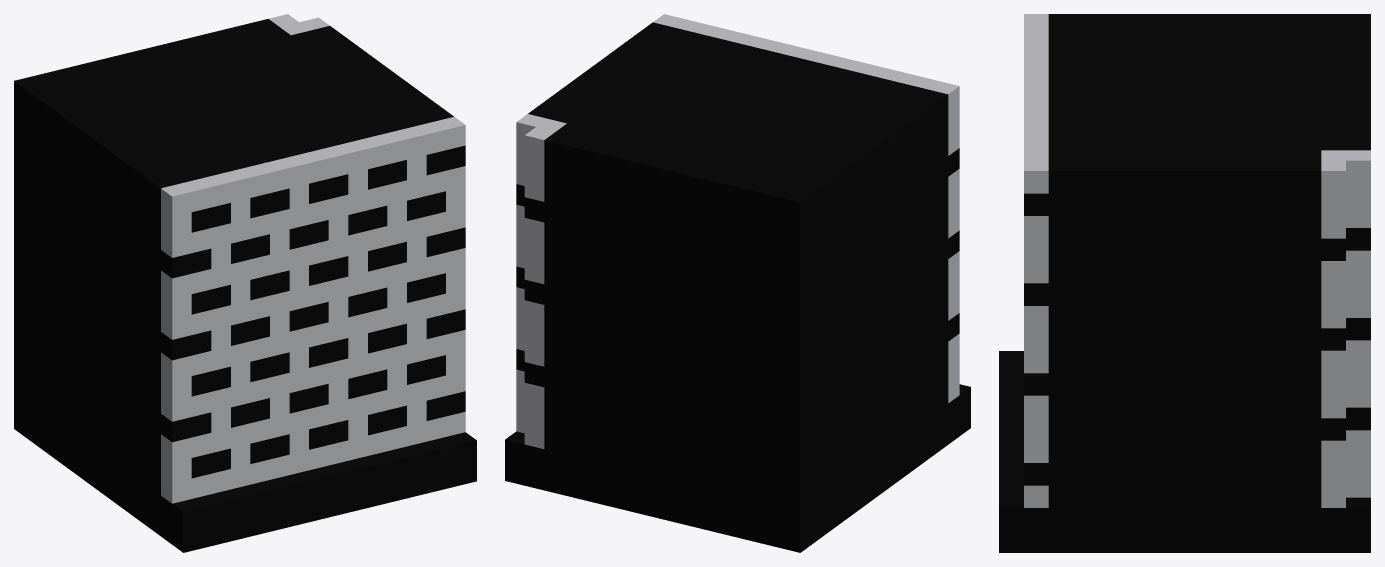
File: dungeon_d_b_outer_wall_segment_d_flipped.obj
3 views of the same model, side by side, from view 1: azimuth 30°, elevation 25°; view 2: azimuth 150°, elevation 25°; view 3: azimuth 270°, elevation 25° (orthographic). The views are drawn at different scales.
Size of the model in its own units: 1.5 by 1.7 by 1.5.
Materials: 1 (1 with a texture image).
